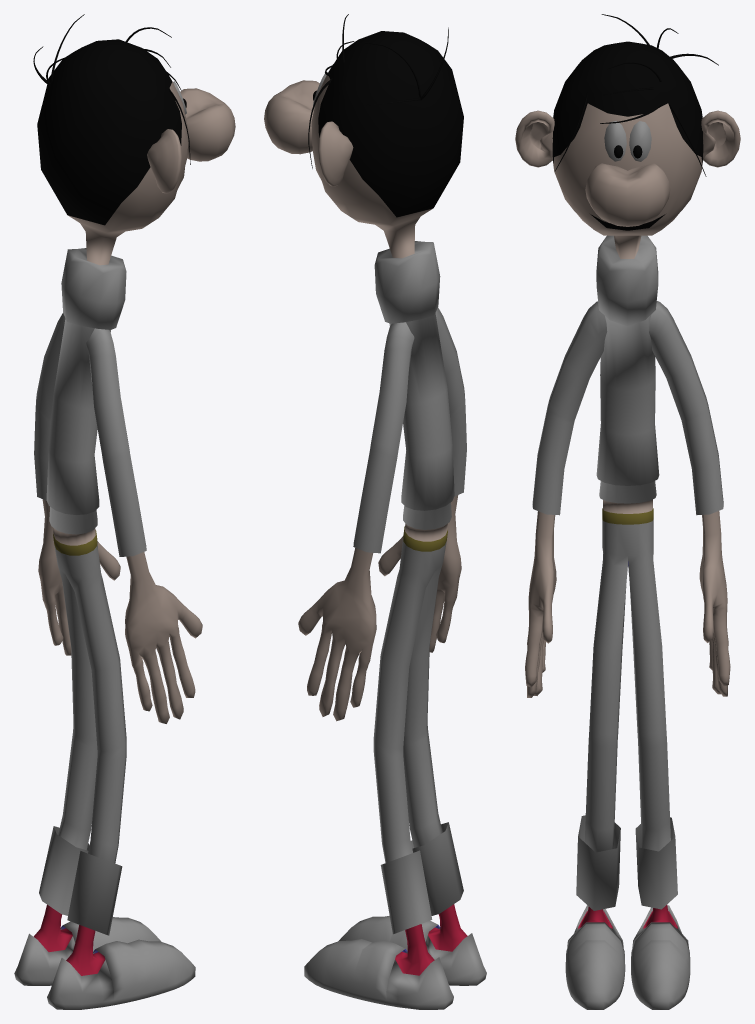
Rendered from spectator_white_tall.dae.
The picture shows the model from 3 angles, left to right: view 1: azimuth 30°, elevation 25°; view 2: azimuth 150°, elevation 25°; view 3: azimuth 270°, elevation 25°; orthographic projection.
Visible parts, largest first — view 1: gaston; view 2: gaston; view 3: gaston.
Boxes of the visible parts, x1,y1,x2,y2 form: gaston: [14, 14, 235, 1009]; gaston: [264, 14, 486, 1009]; gaston: [515, 14, 740, 1009].
Bounding box in the file's own units: 0.388 × 0.3894 × 1.8.
